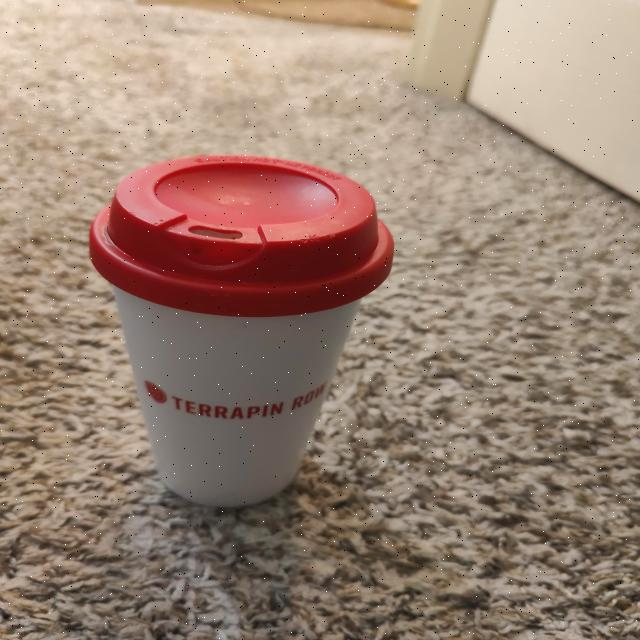mug: (95, 157, 382, 503)
